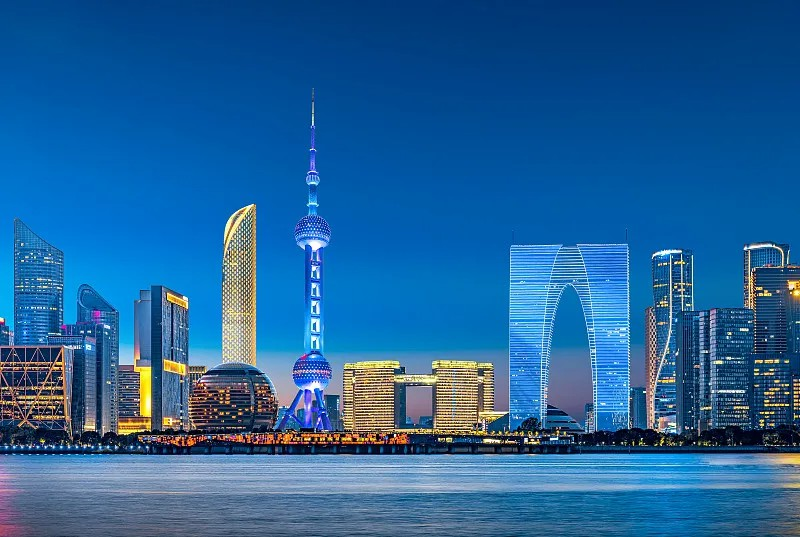Oriental: (275, 88, 335, 430)
